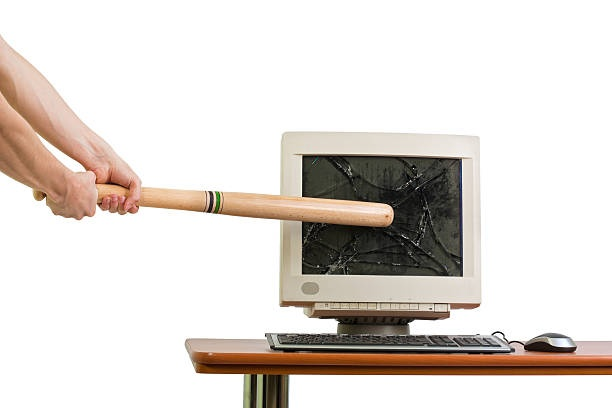bita: (83, 178, 398, 227)
